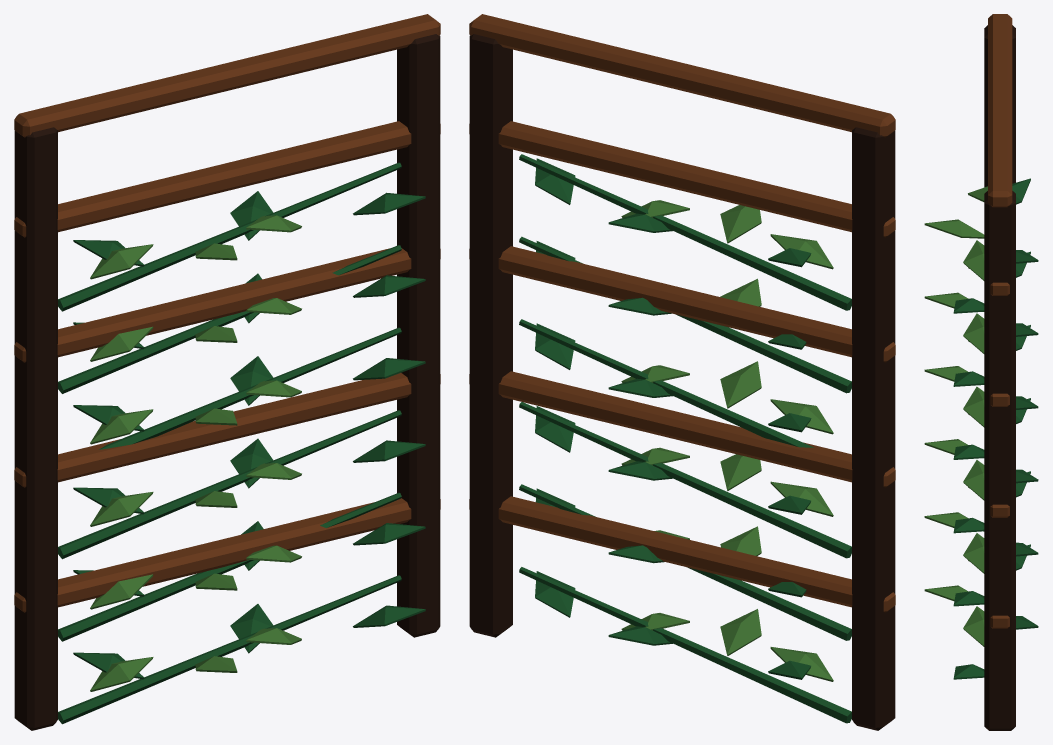
File: Trepadeira_em_trelica_LOD0.fbx
3 renders of one model, left to right at view 1: azimuth 30°, elevation 25°; view 2: azimuth 150°, elevation 25°; view 3: azimuth 270°, elevation 25°, orthographic. The views are drawn at different scales.
Parts seen in each view (by area): view 1: Trepadeira_em_trelica_LOD0; view 2: Trepadeira_em_trelica_LOD0; view 3: Trepadeira_em_trelica_LOD0.
Part boxes in pixels (box(x1,y1,x2,y2)): Trepadeira_em_trelica_LOD0: box(14, 14, 440, 730); Trepadeira_em_trelica_LOD0: box(469, 14, 895, 730); Trepadeira_em_trelica_LOD0: box(924, 14, 1038, 730).
Bounding box in the file's own units: 175 × 246 × 46.59.
1 material, 1 textured.
